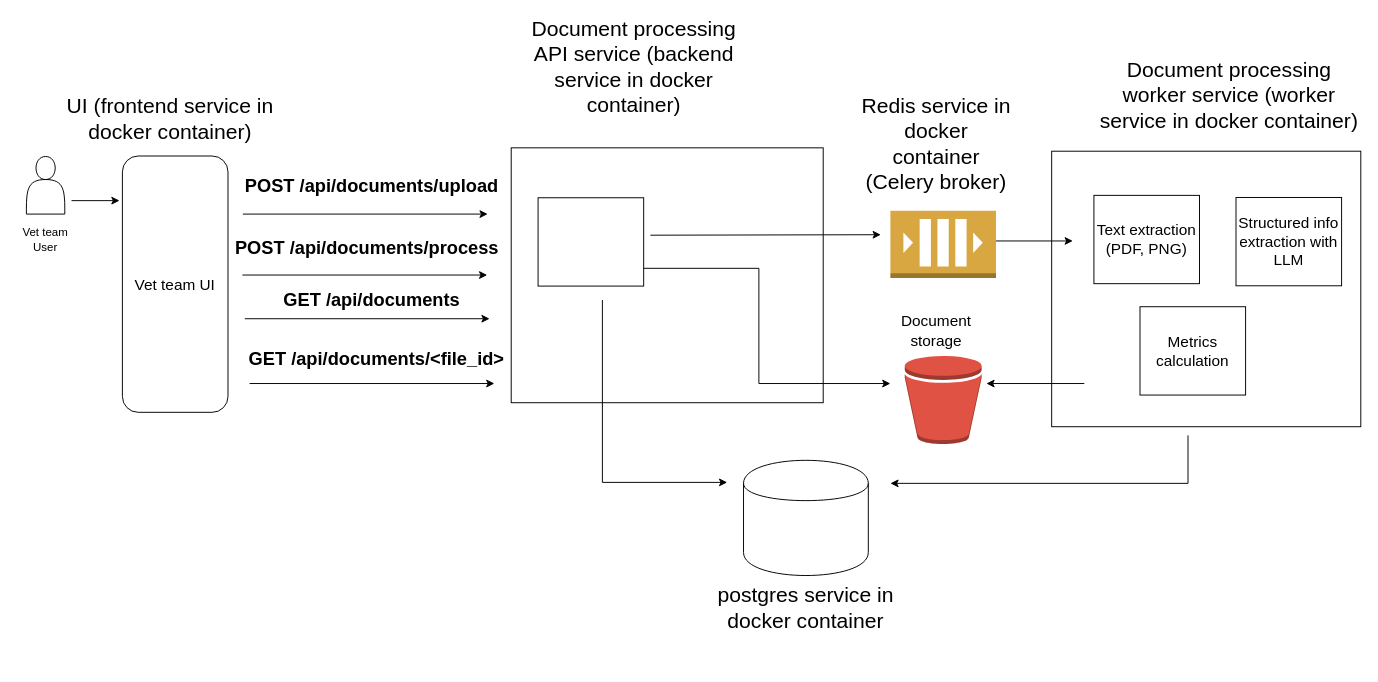
Some shapes in this 1378 by 682 pixel diagram are drawn without their labels. Here are the shapes that lost their labels. From the top down, the box of each, then its label:
(537, 197, 644, 286): Document upload handling
(743, 459, 868, 576): Structured claim documents data store
